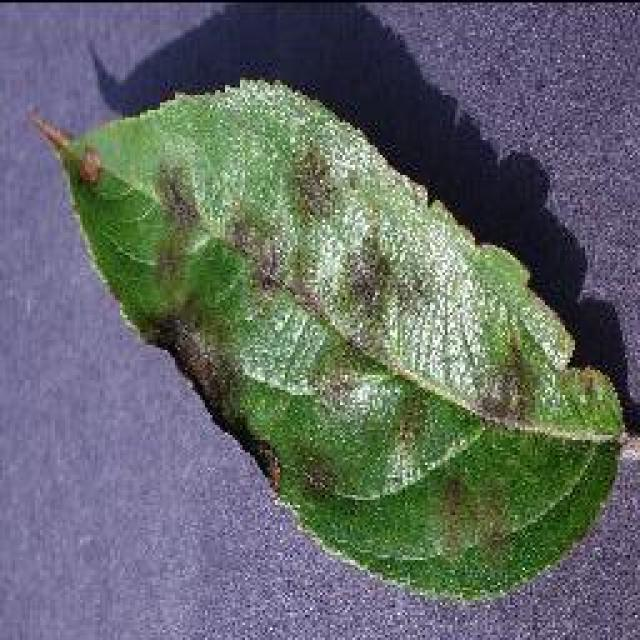apple scab disease: (28, 73, 628, 605)
